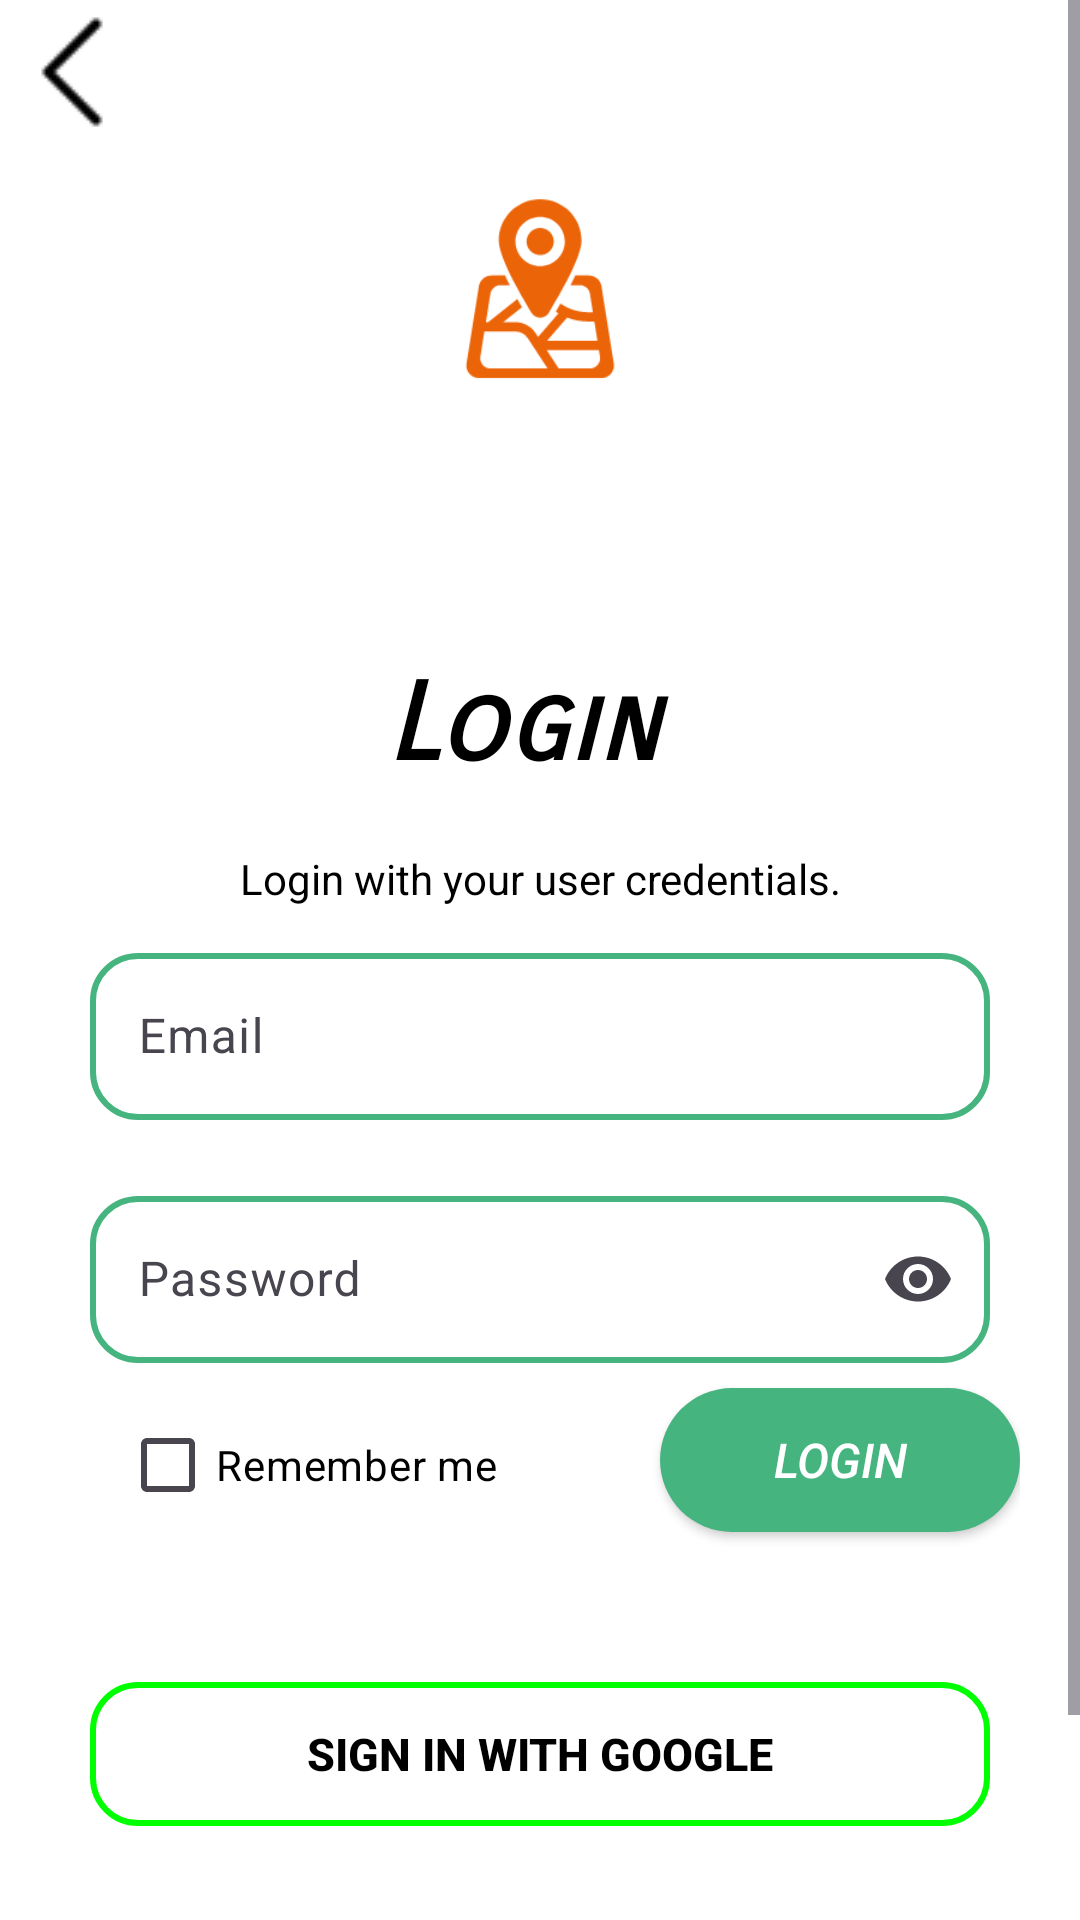

Screen size 1080w x 1920h. Icon name, then its box in pixels as BBox(x1, y1, x2, y2):
back: BBox(41, 17, 103, 127)
